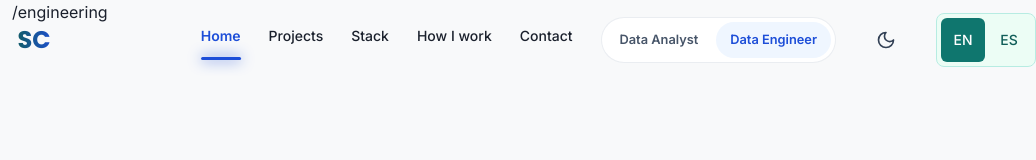
Scenario: Navbar route-aware shell › navigates to clean section paths instead of mutating the hash
Click the button "Projects".
click(296, 40)  # box [269,20,323,60]
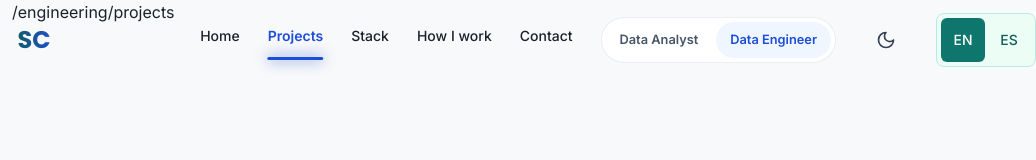
Expected: the text with test id "current-pathname" reads "/engineering/projects", [12,2,174,22]
